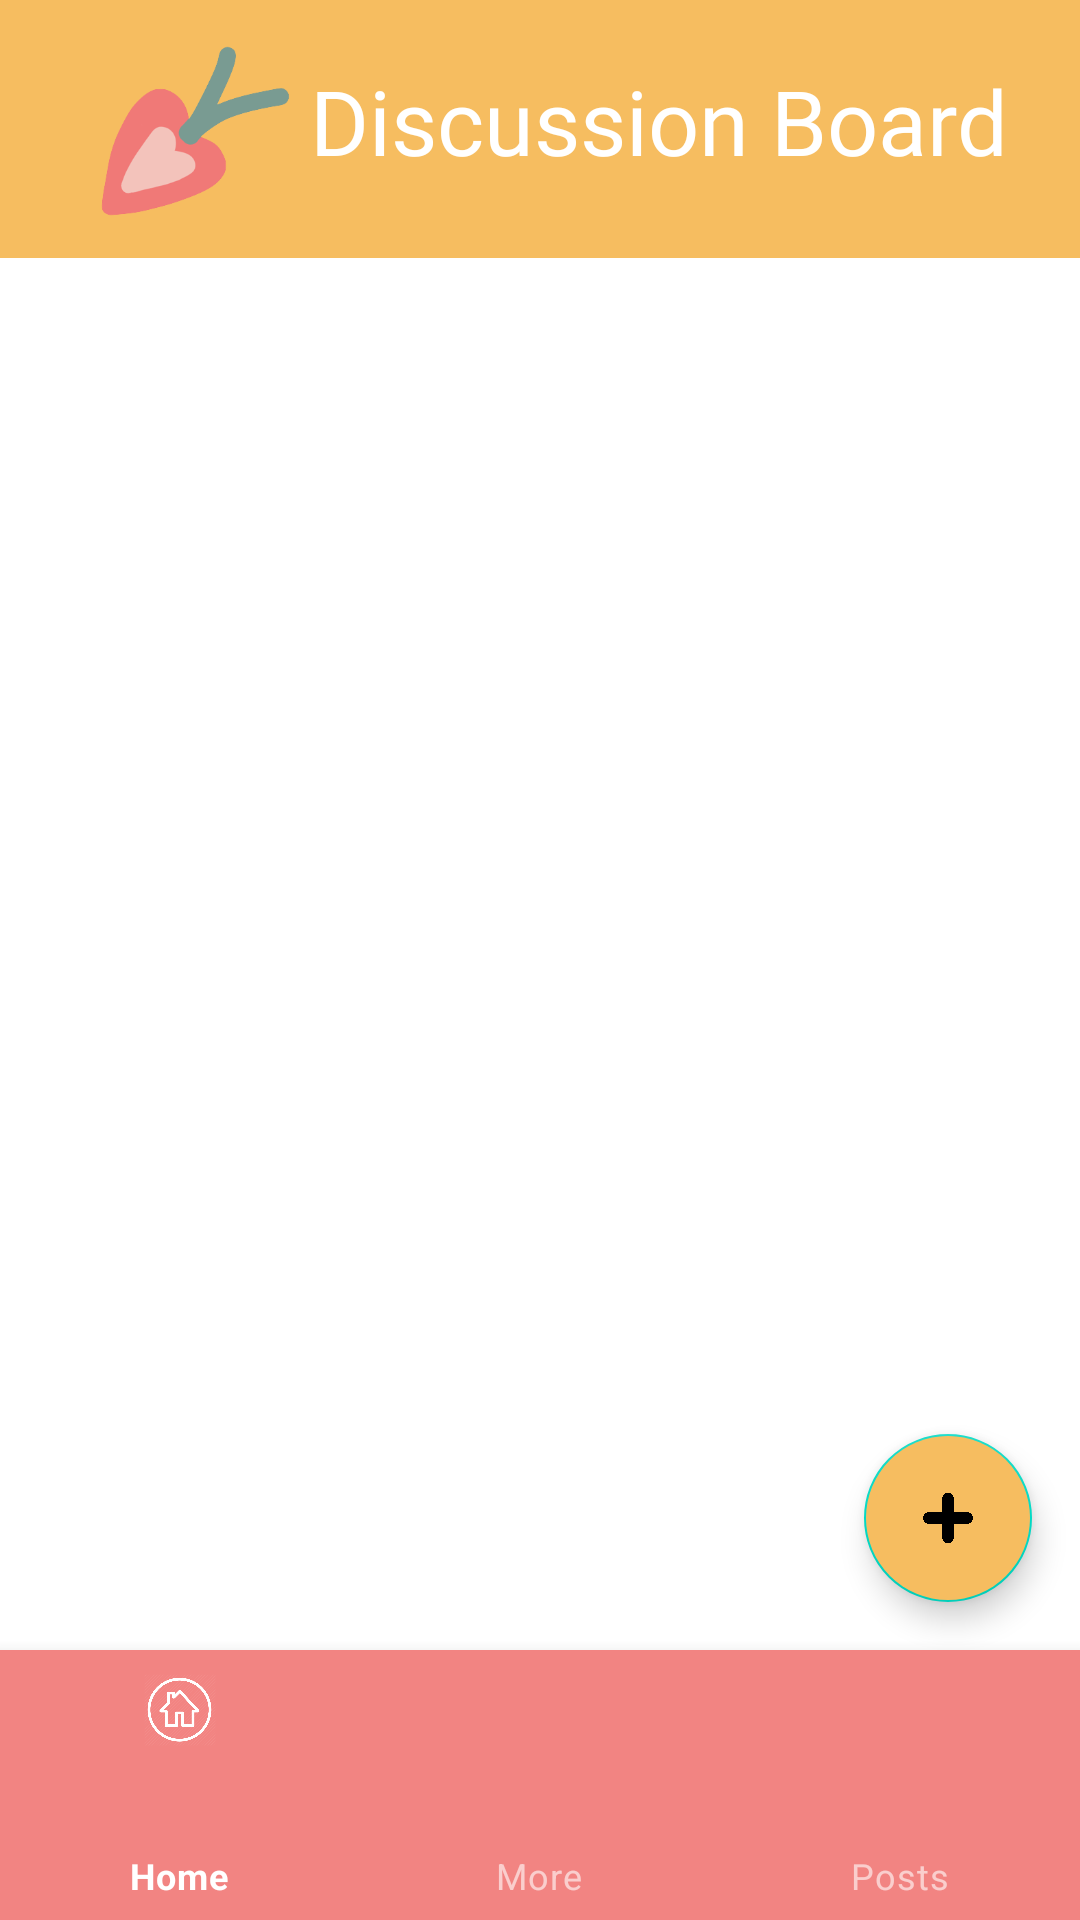

Where to tap for icons on this 1080x1920 app screen, as (x=x, y=y):
add button: (x=948, y=1518)
beet tran: (x=195, y=131)
